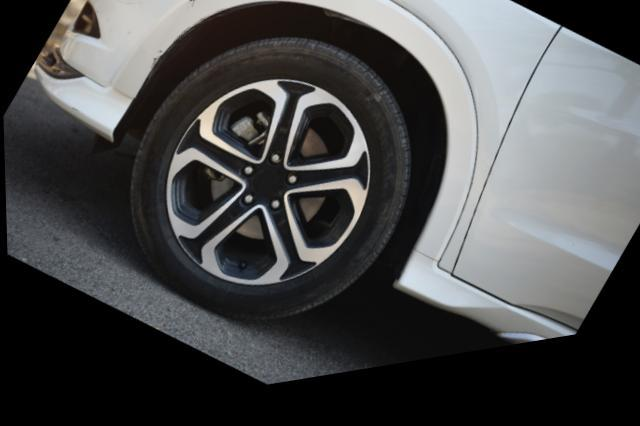scratch: (114, 0, 226, 12)
